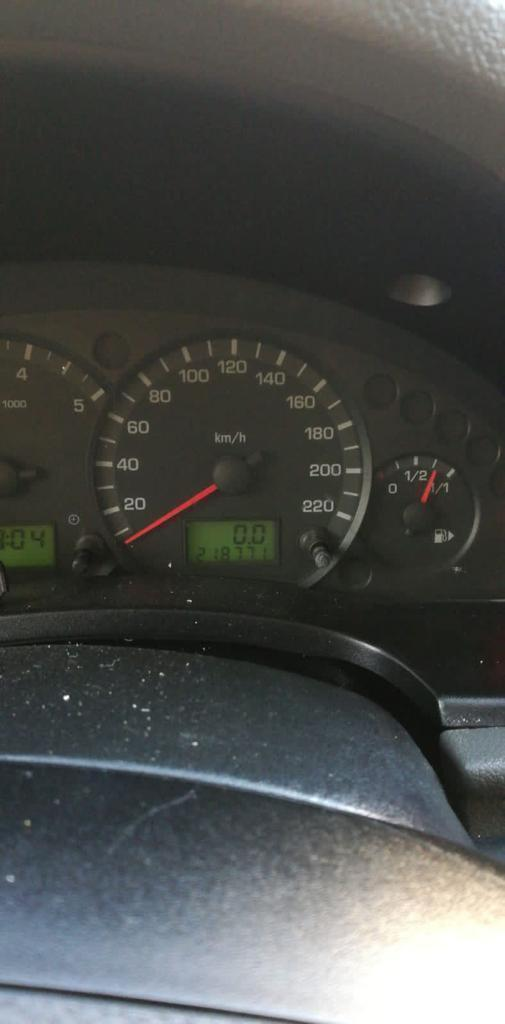,: (247, 540, 251, 545)
0: (231, 523, 246, 544), (251, 523, 265, 545)
1: (212, 546, 219, 561), (261, 546, 267, 560)
2: (194, 545, 205, 562)
7: (233, 545, 243, 560), (246, 545, 255, 559)
8: (219, 545, 231, 561)
odometer: (180, 514, 281, 567)
